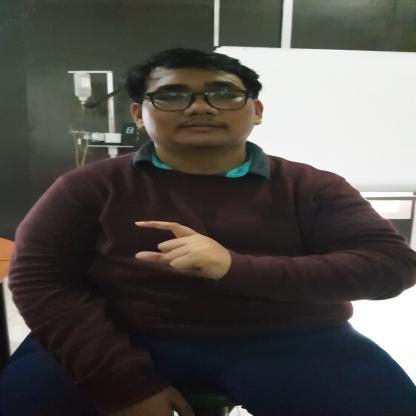C: (132, 220, 228, 276)
